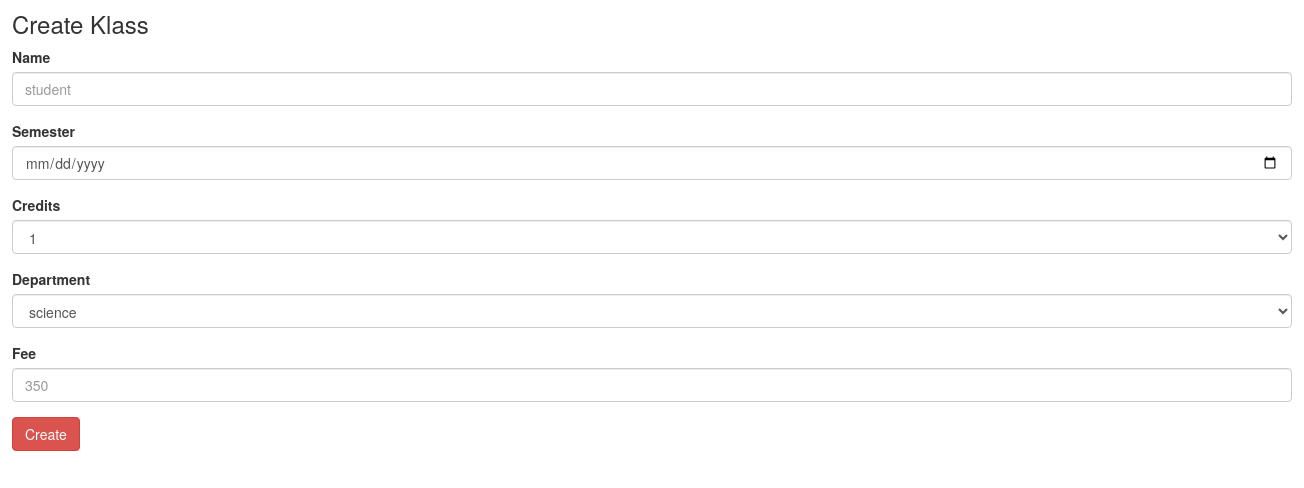
Test: CreateKlass › should show name too short error message
The image size is (1304, 488).
Click the button "Create".
click(46, 434)  # box [12, 417, 80, 451]
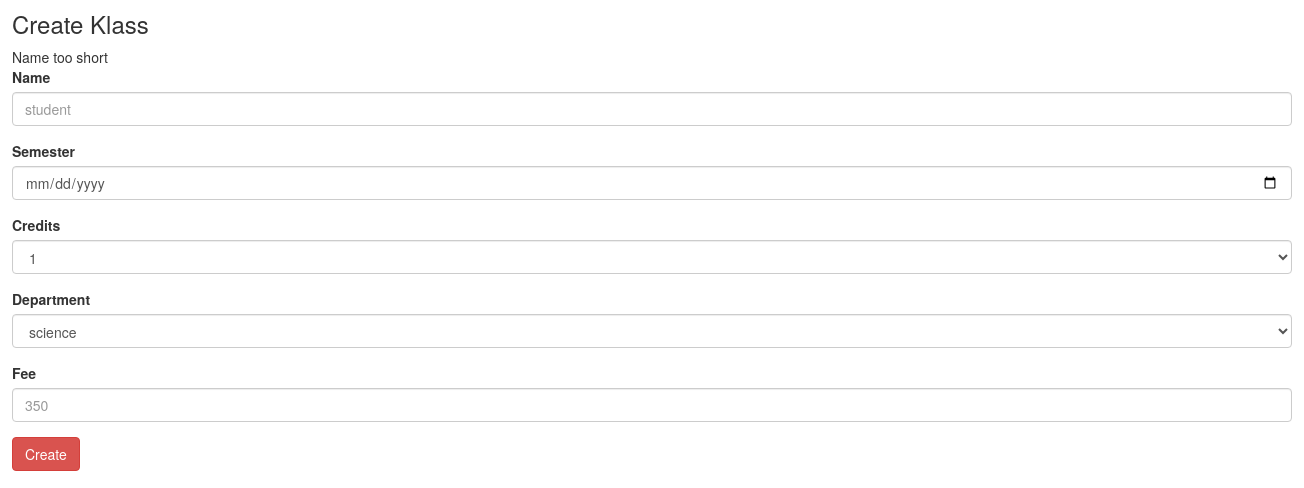
Expected: the text "Name too short" is shown, [12, 47, 108, 67]
